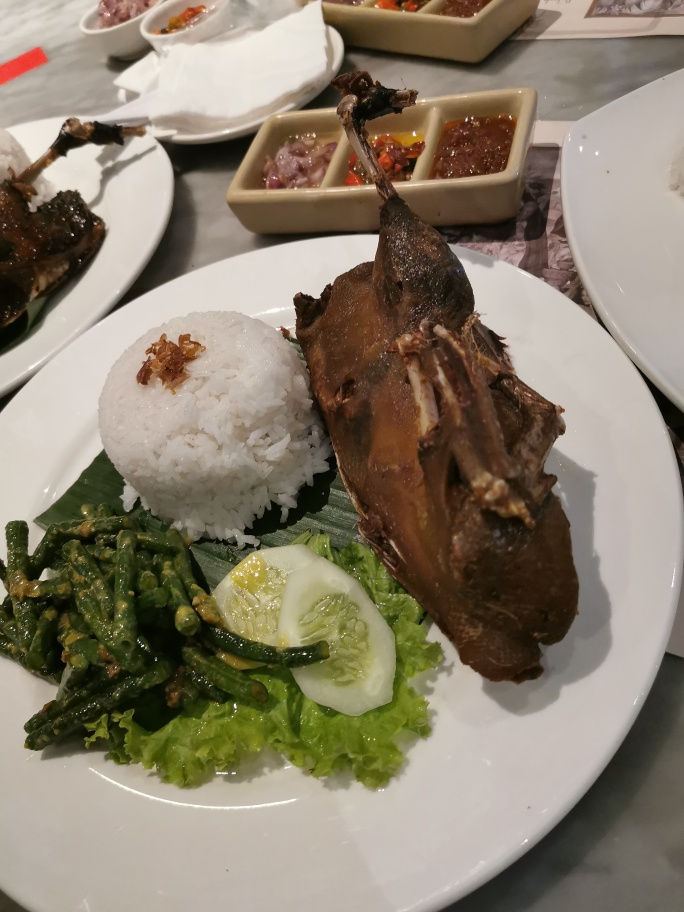bebek goreng: (276, 60, 604, 689)
nasi putih: (92, 305, 331, 543)
